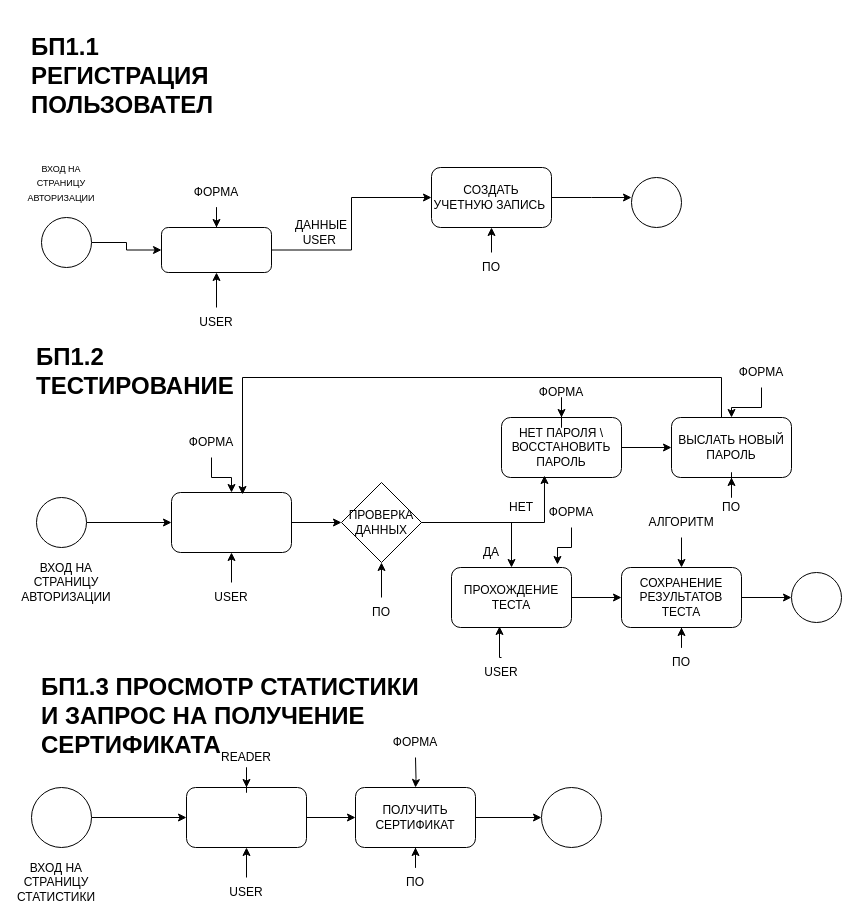
The diagram is 859 pixels wide and 924 high, and some of its shapes have lost their labels. The shapes that lost their labels are listed below. From the top down, each one's centre as x and y in pixels, then its label:
At pixel 216 249: "ЗАПОЛНИТЬ АНКЕТУ".
At pixel 231 522: "ВВОД ДАННЫХ УЧЕТНОЙ ЗАПИСИ".
At pixel 246 817: "ПРОСМОРТ ПЕРЕЧНЯ ТЕСТА".
